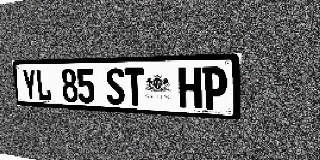5: (77, 68, 95, 104)
8: (61, 68, 79, 103)
H: (178, 67, 202, 109)
L: (35, 69, 52, 101)
P: (202, 67, 227, 110)
S: (105, 68, 125, 105)
T: (124, 68, 145, 106)
Y: (22, 69, 38, 101)
